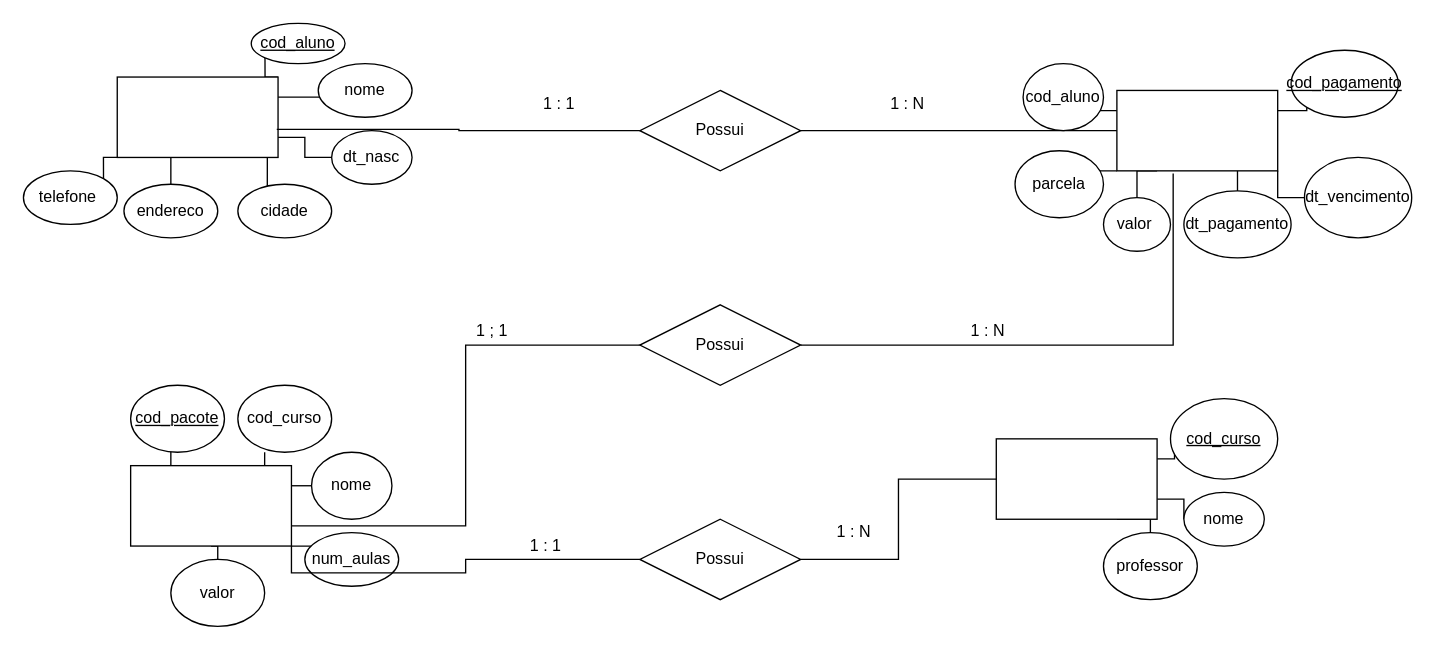
The diagram is 1435 pixels wide and 650 high, and some of its shapes have lost their labels. The shapes that lost their labels are listed below. From the top down, each one's centre as x and y in pixels, then its label:
(197,116): Aluno
(1197,130): Pagamento
(1076,478): Curso
(210,505): Pacote
